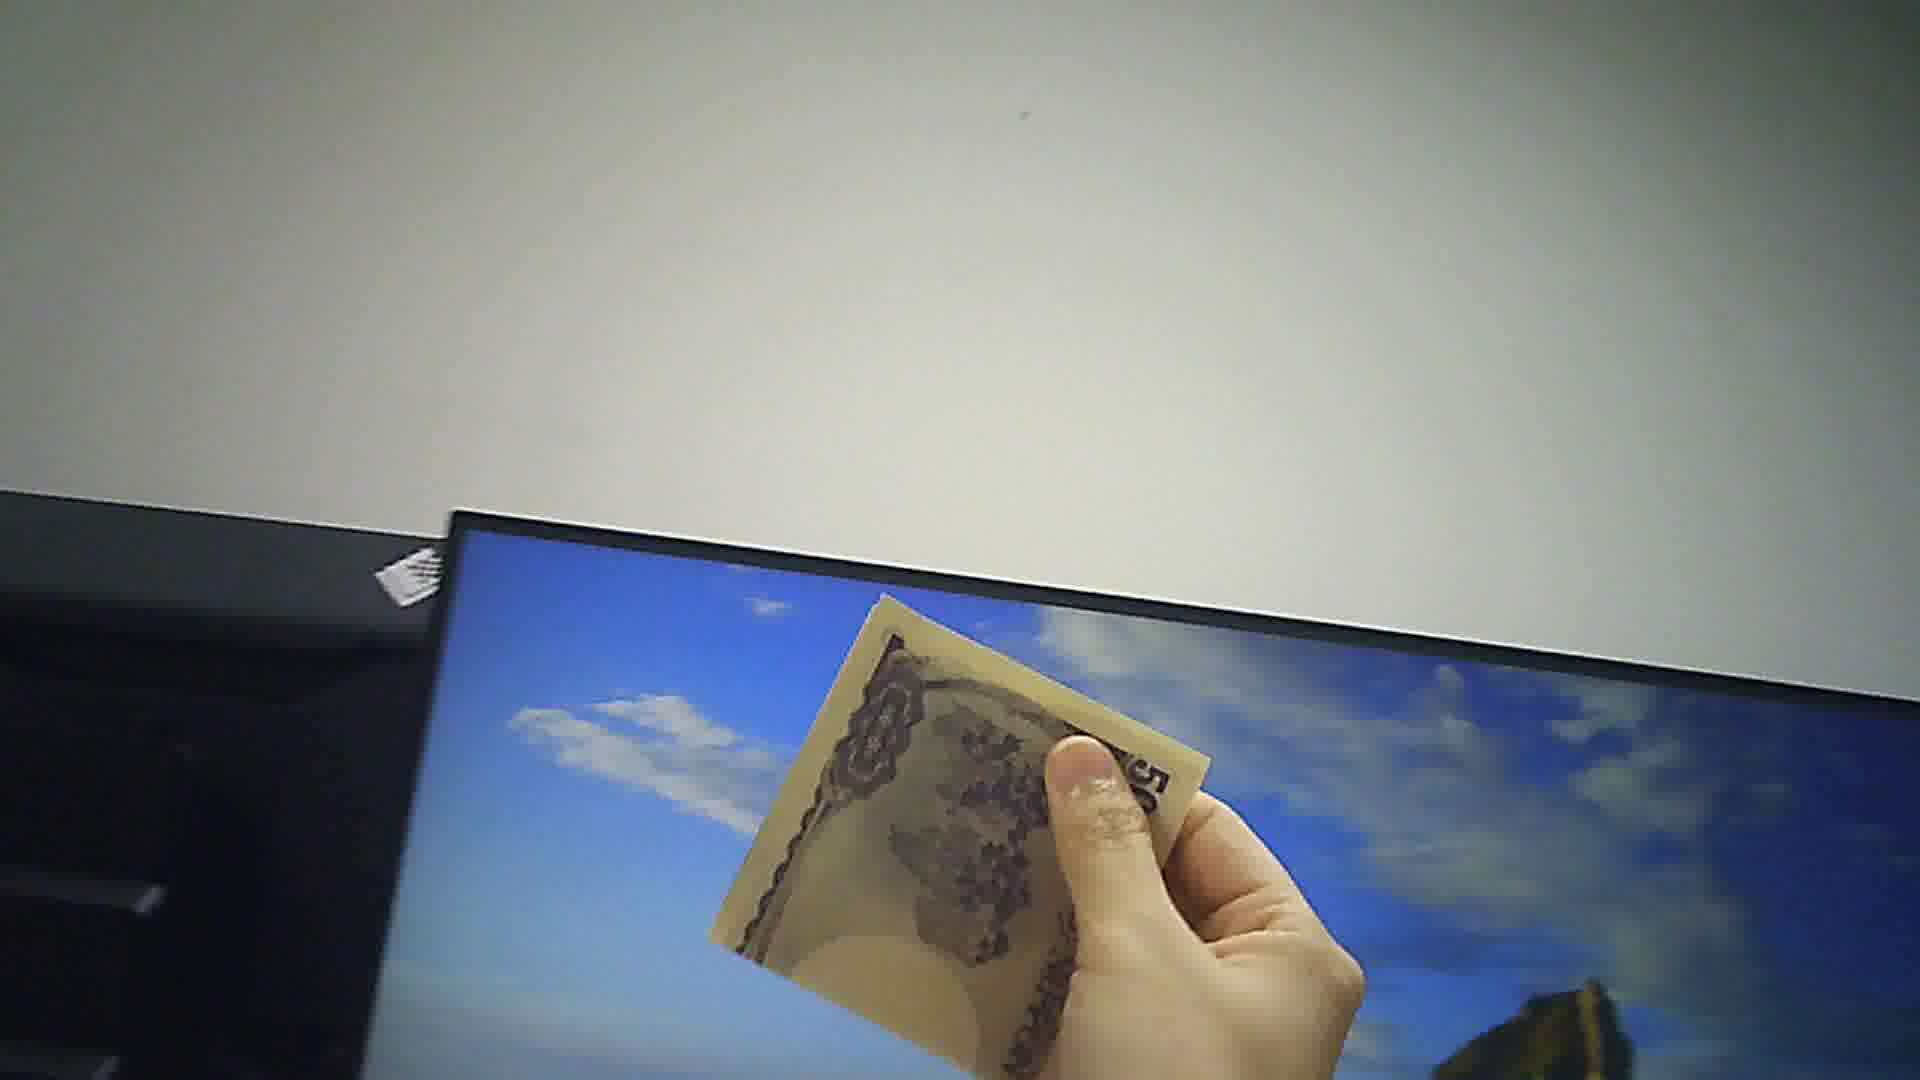5,000 Yen: (717, 585, 1213, 1073)
